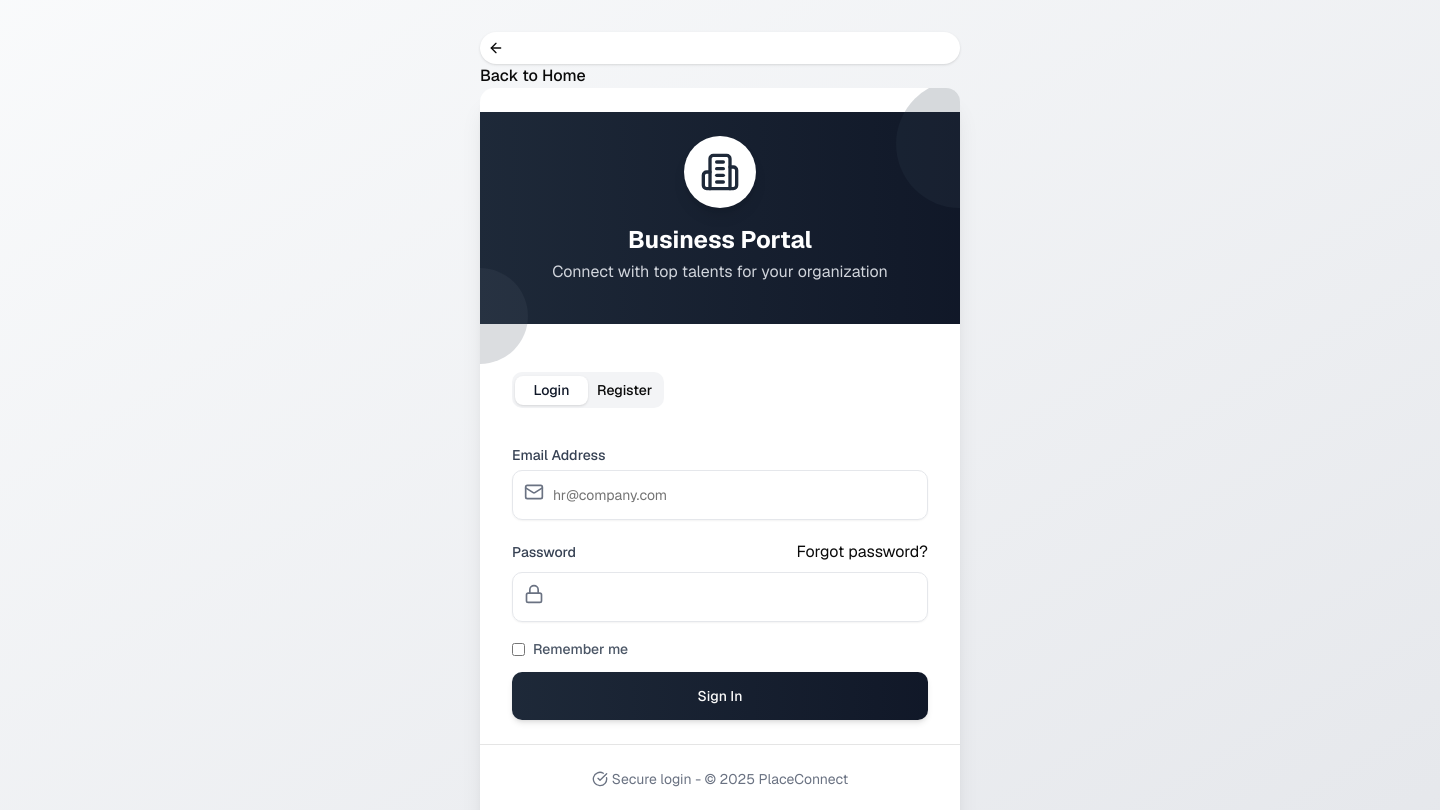
it: CompanyLoginPage › shows loading state when logging in
// Fill in login form
In the field labelled "Email Address": (720, 495) [512,470,928,520], type "test@example.com"
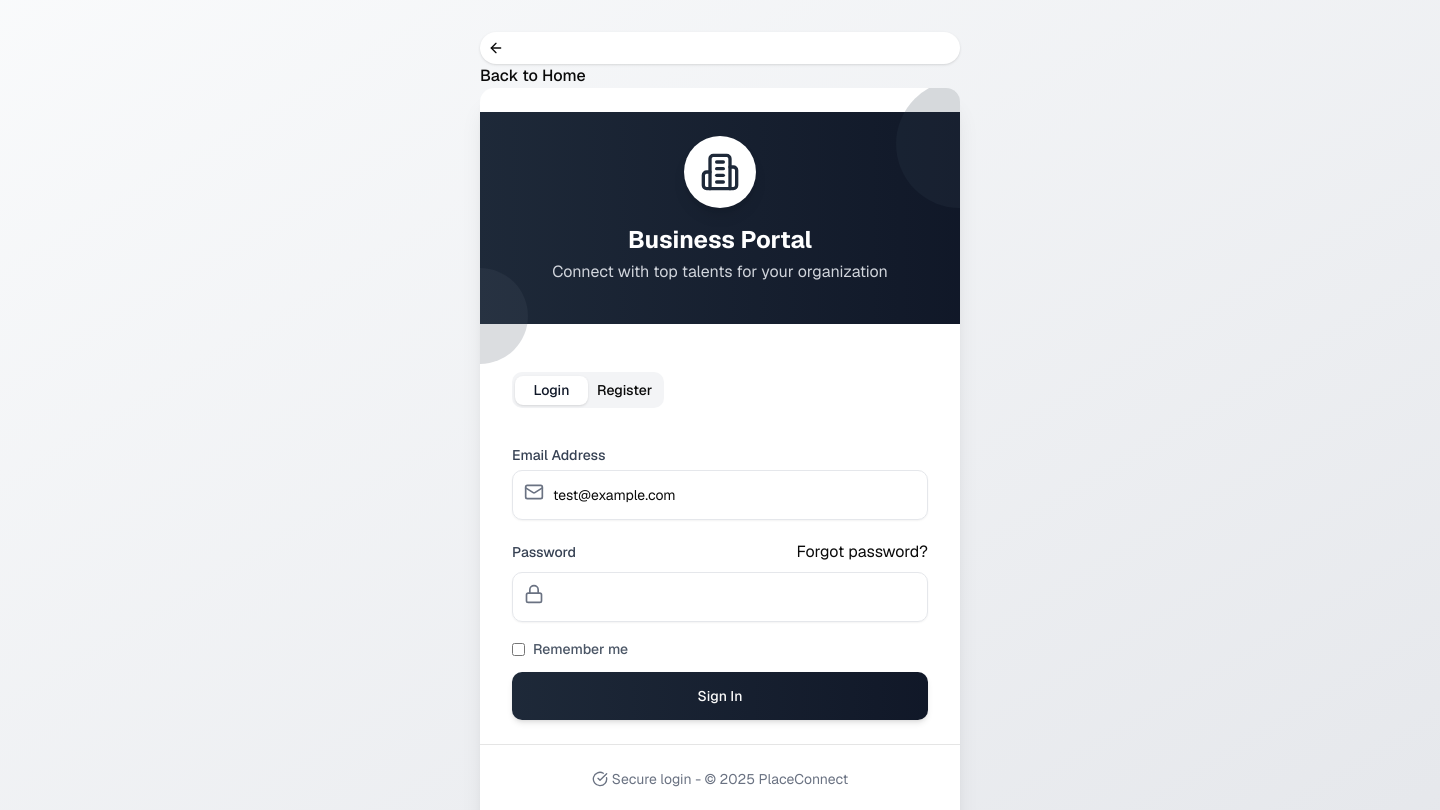
In the password field labelled "Password": (720, 597) [512,572,928,622], type "password123"
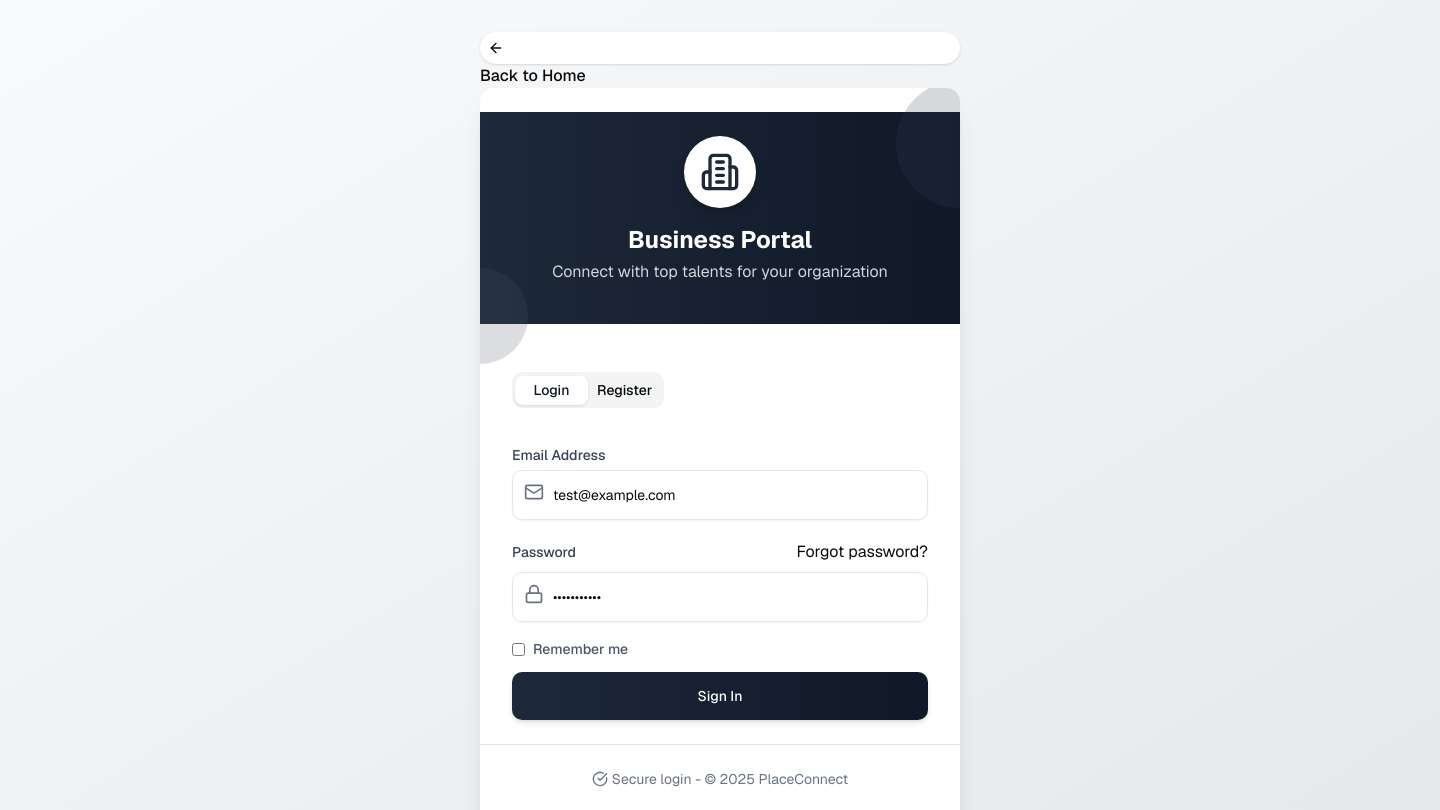
// Submit the form
Click the button "Sign In": (720, 696) [512,672,928,720]
Wait 1500 ms
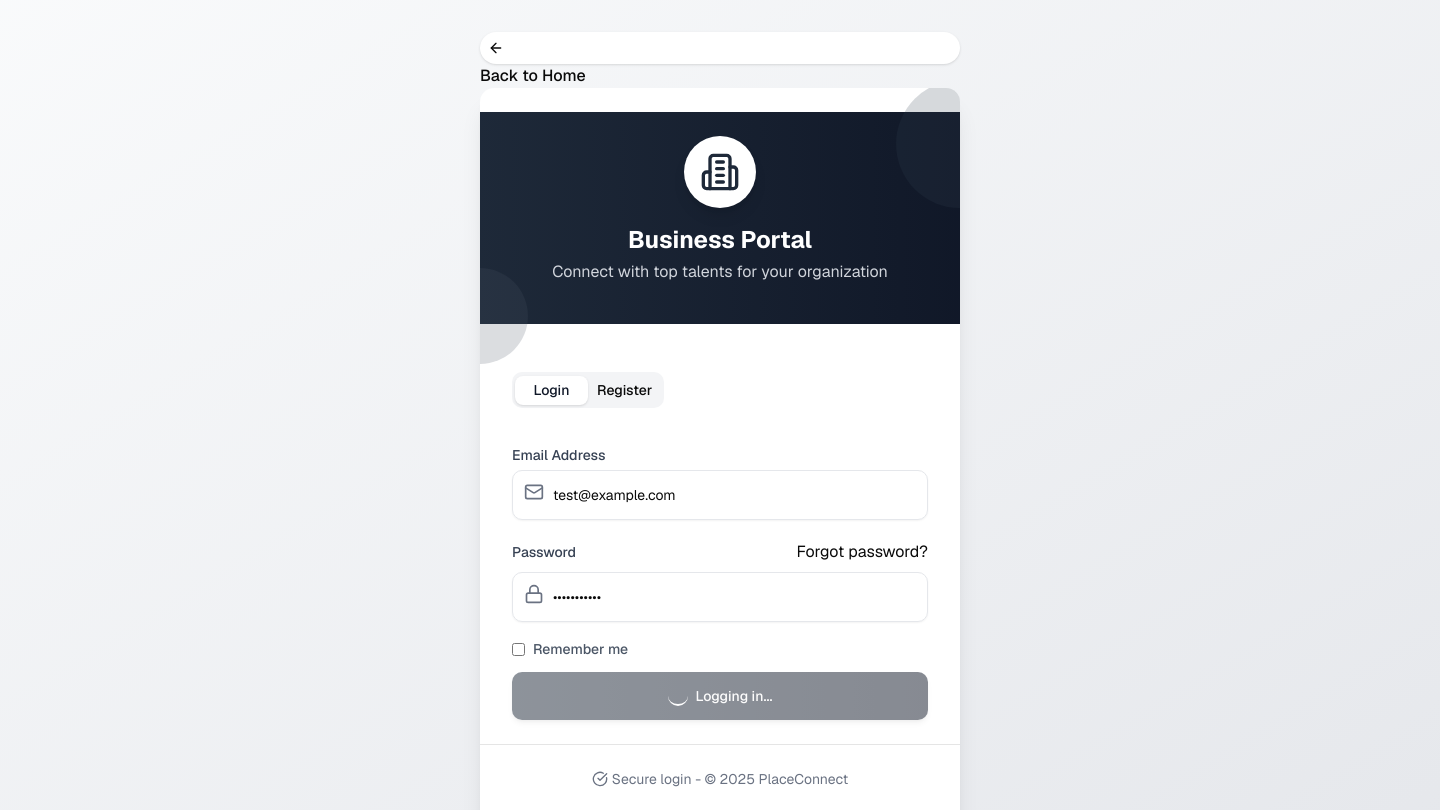
expect the text "Logging in..." is shown: met, box [668,686,772,706]
